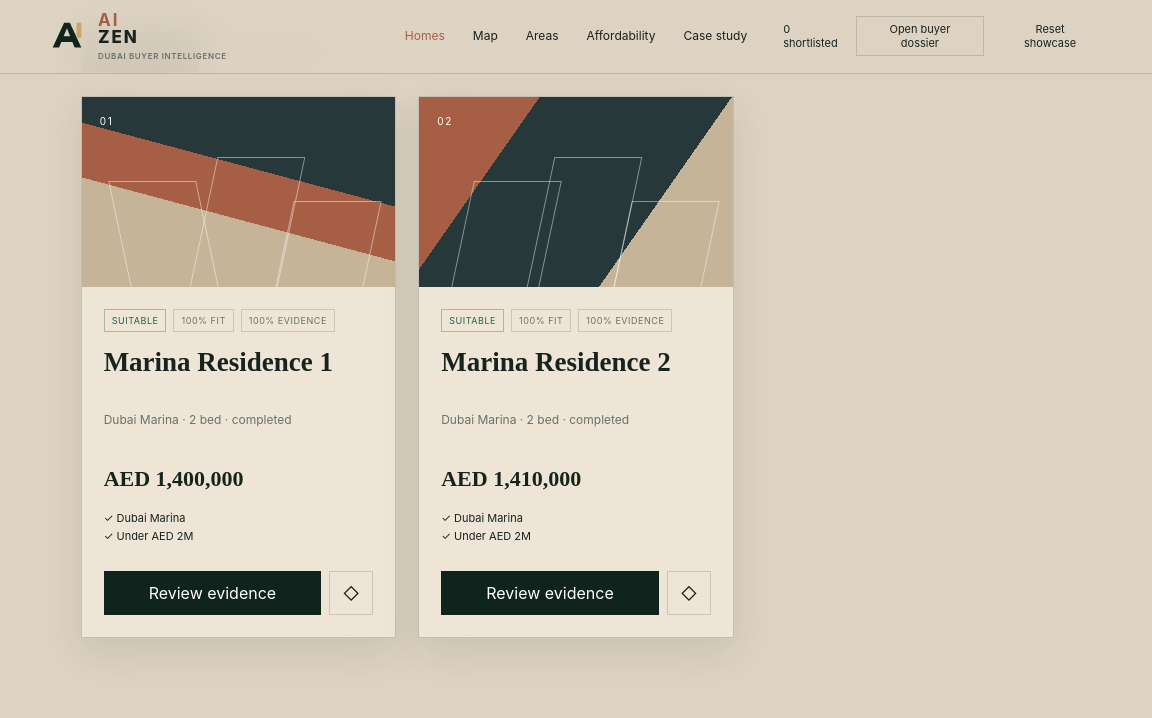
keeps shortlist, comparison, private notes, and dossier synchronized
(page scrolled)
Click the 1st button "Review evidence".
click(212, 593)  # box [104,571,321,615]
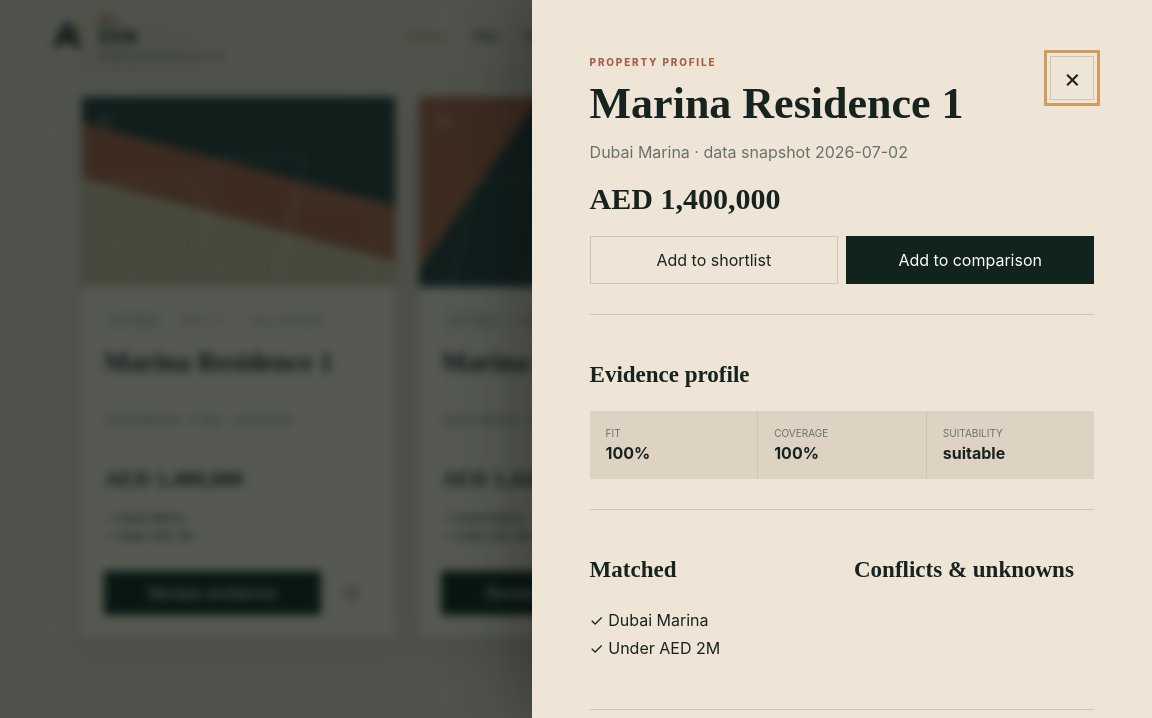
Click the button "Add to shortlist".
click(714, 260)  # box [590,236,838,284]
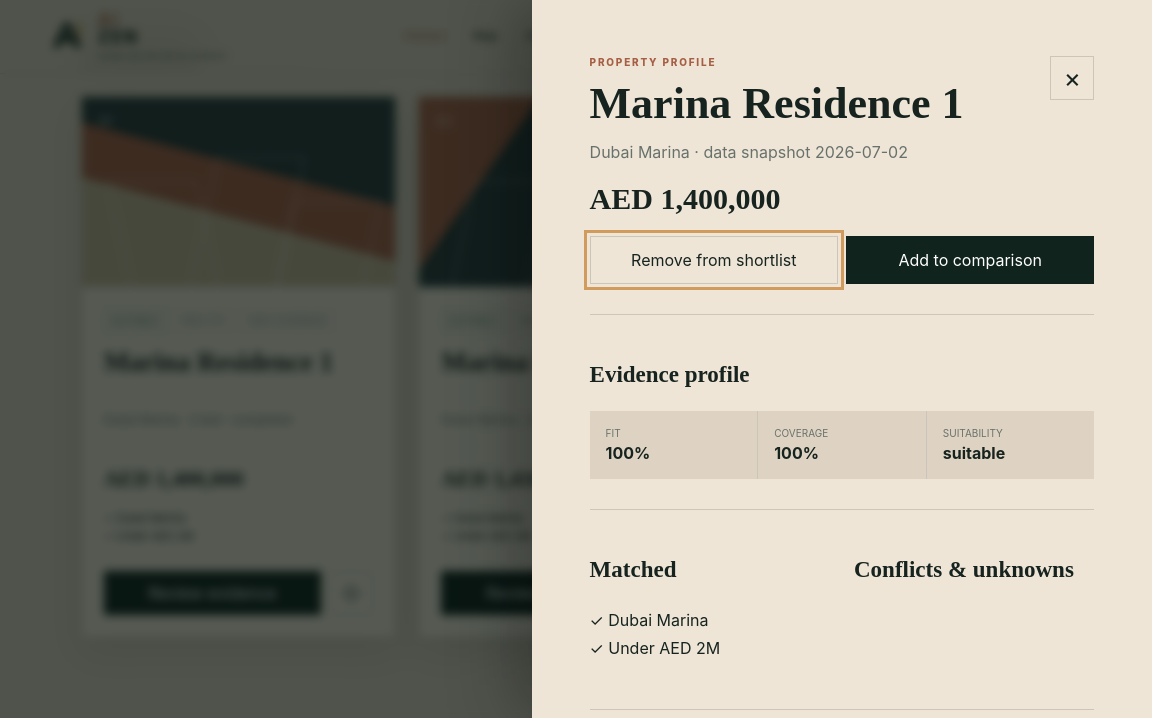
Click the button "Add to comparison".
click(970, 260)  # box [846,236,1094,284]
(page scrolled)
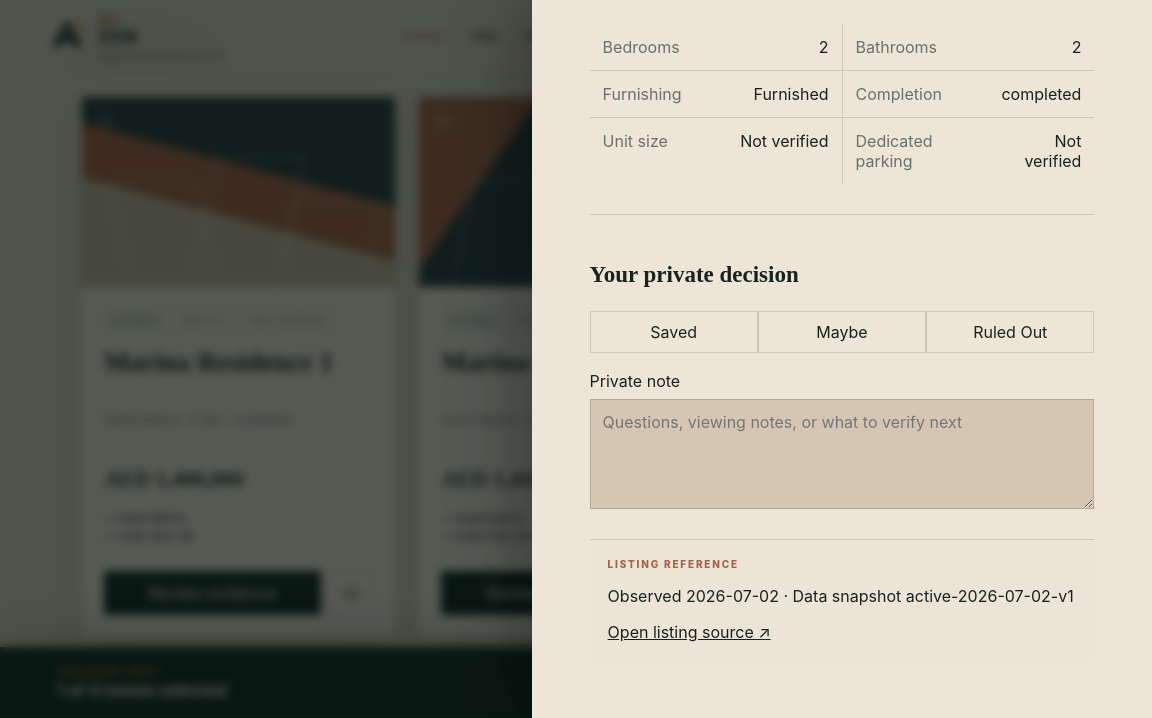
Type "Ask about the building service history." into the text box labelled "Private note".
click(842, 454); type("Ask about the building service history.")  # box [590,399,1094,509]
(page scrolled)
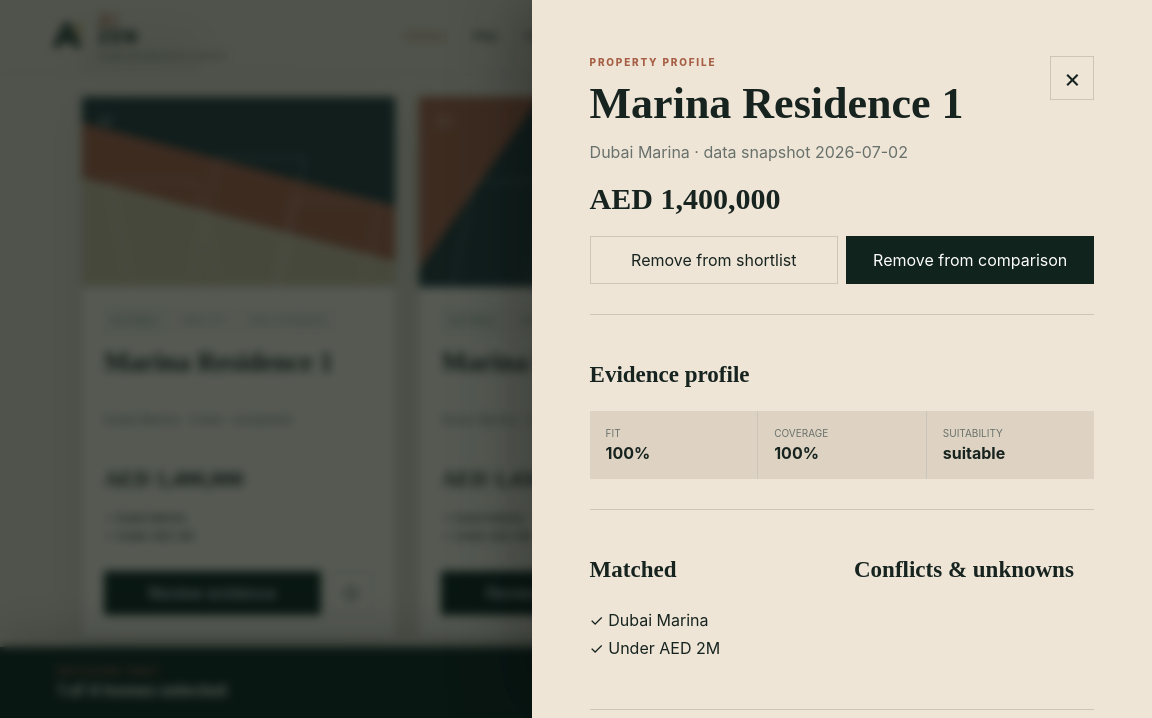
Click the button named "Close property evidence".
click(1072, 78)  # box [1050,56,1094,100]
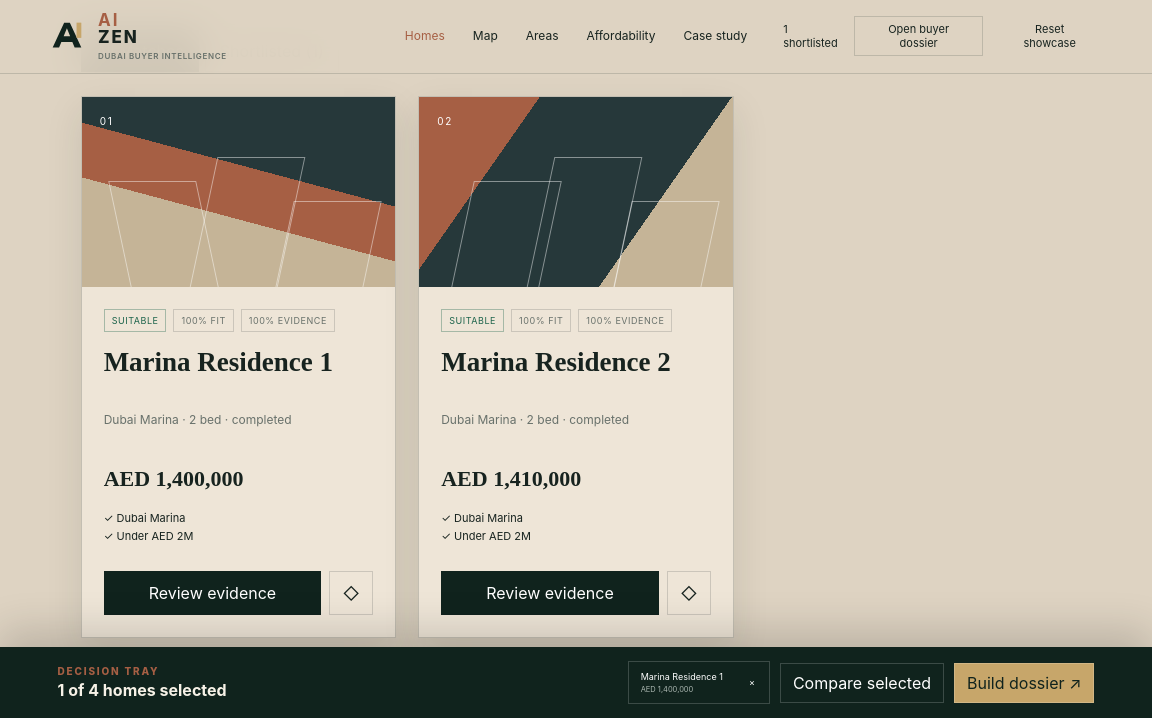
Expected: the text "1 shortlisted" is shown, [783,22,844,50]
Click the button "Open buyer dossier".
click(919, 36)  # box [854,16,984,56]
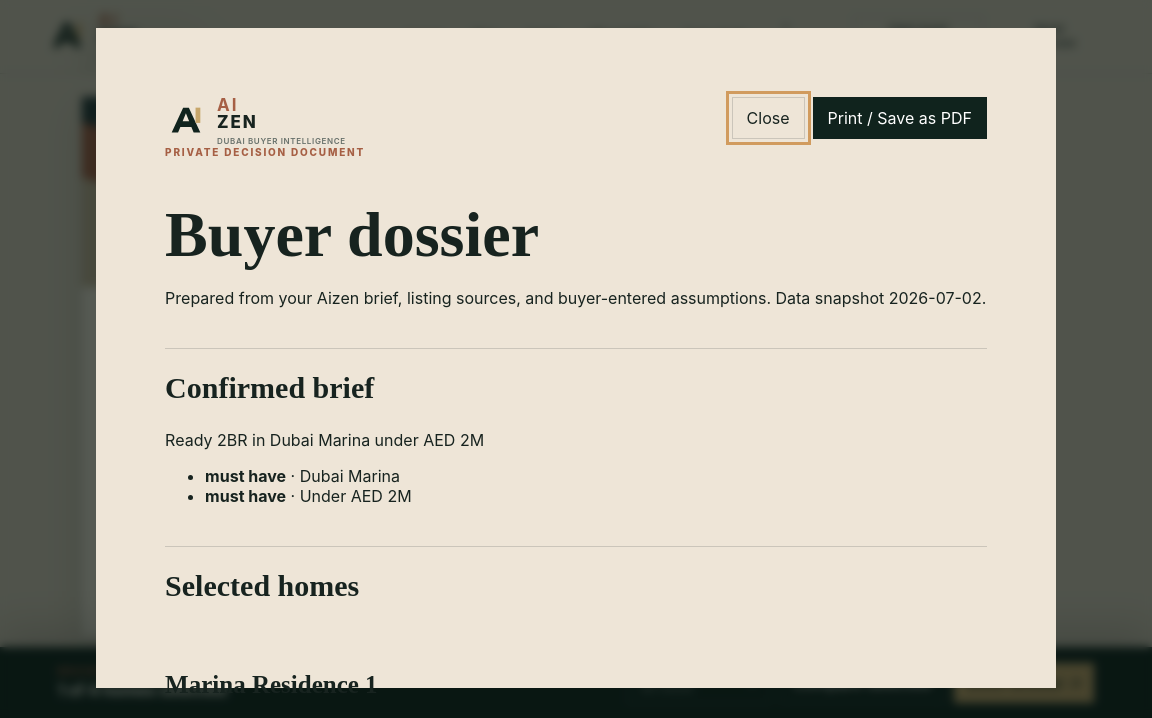
Expected: the heading "Buyer dossier" is shown, [165,199,539,270]
